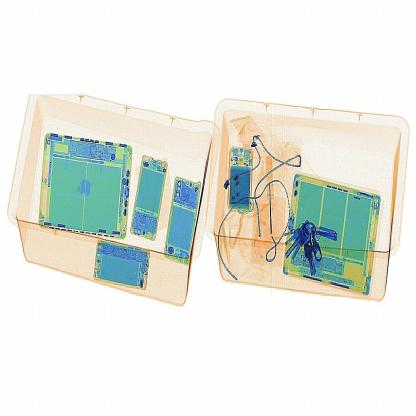wrench: (263, 145, 278, 242)
